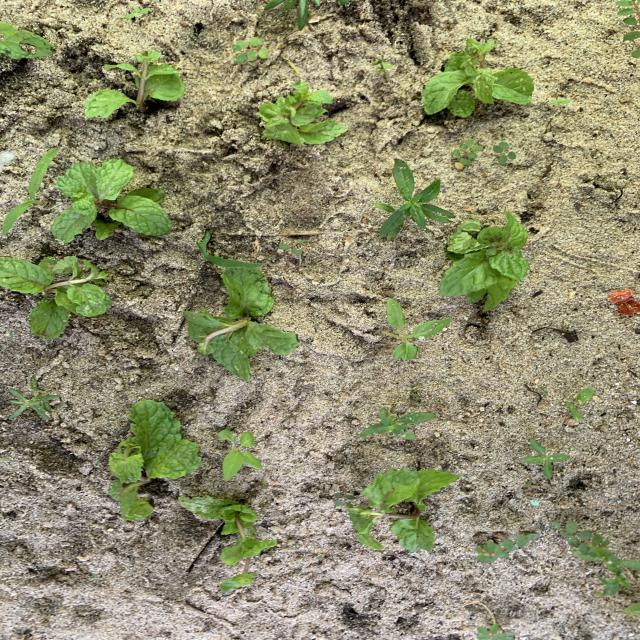crop: (185, 267, 297, 379), (110, 400, 200, 519), (51, 160, 171, 242), (179, 497, 277, 592), (346, 470, 458, 551), (0, 257, 111, 336), (423, 39, 534, 116), (441, 211, 528, 309), (84, 51, 183, 117), (260, 82, 347, 143), (1, 21, 53, 58)
weed: (552, 522, 640, 596), (374, 161, 453, 239), (380, 299, 451, 359), (197, 230, 260, 269), (361, 408, 435, 438), (218, 430, 261, 481), (11, 377, 59, 419), (522, 439, 569, 478), (476, 534, 539, 563), (4, 199, 40, 233), (2, 200, 32, 234), (565, 388, 595, 419), (233, 37, 267, 62), (452, 140, 483, 166), (616, 1, 639, 25), (476, 625, 515, 639), (493, 142, 515, 162), (125, 5, 150, 19), (334, 489, 355, 505), (278, 241, 302, 255), (371, 57, 393, 71), (550, 99, 570, 103)
